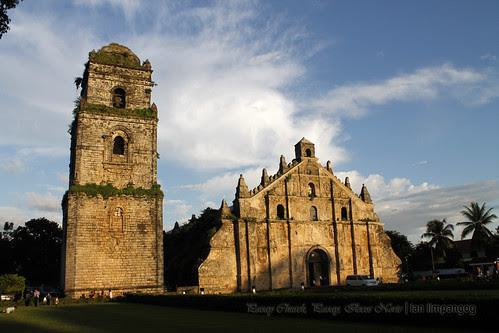paoay_church_paoay_ilocos_norte: (58, 38, 410, 296)
vegetation_damage: (73, 180, 158, 199), (81, 100, 152, 122)
